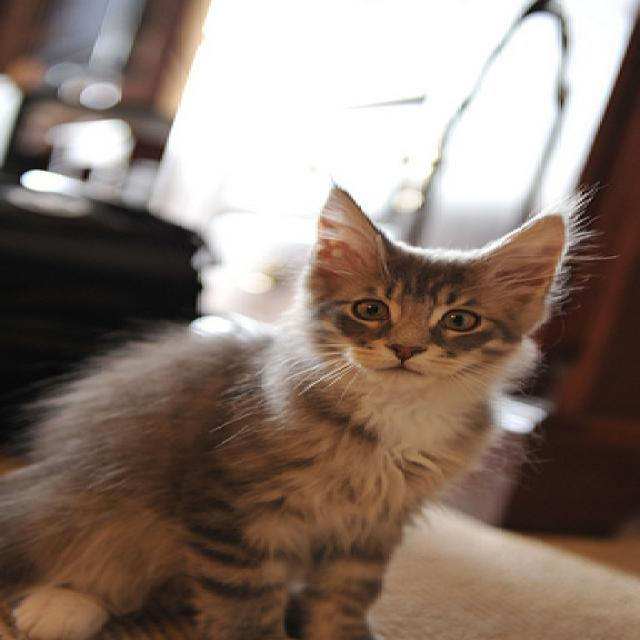Maine Coon: (0, 178, 580, 640)
